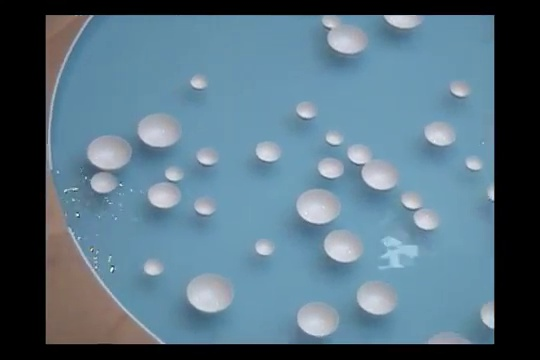bowl: (184, 270, 238, 313), (84, 133, 134, 172), (294, 187, 343, 225), (135, 111, 184, 148), (294, 300, 340, 339), (354, 281, 401, 316), (325, 25, 371, 57), (323, 227, 365, 261), (361, 158, 401, 191), (147, 182, 184, 209), (422, 119, 457, 147), (89, 170, 121, 195), (384, 13, 424, 32), (423, 330, 472, 345), (192, 194, 222, 218), (254, 139, 284, 162), (317, 158, 349, 179), (413, 206, 440, 230), (195, 146, 223, 169), (141, 255, 168, 278), (346, 144, 373, 163), (295, 99, 319, 120), (253, 236, 278, 256), (479, 300, 495, 331), (447, 79, 473, 98), (401, 191, 426, 210), (324, 127, 347, 147), (464, 152, 485, 172), (320, 14, 344, 30), (162, 165, 186, 181), (188, 73, 209, 90)
